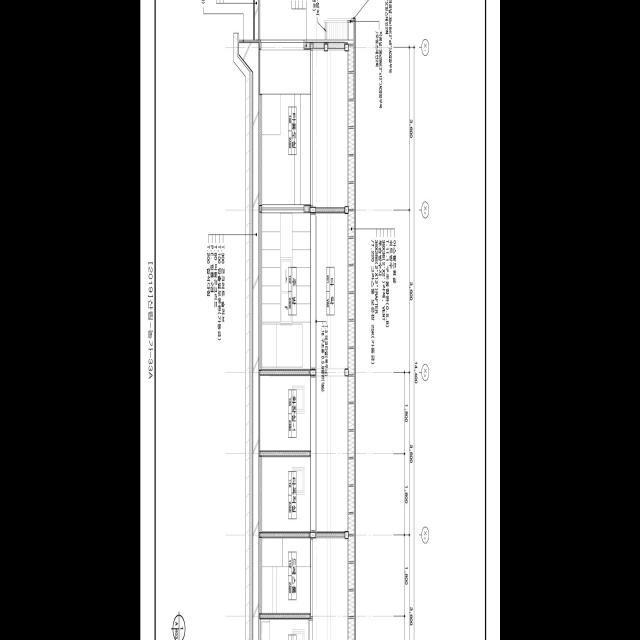background: (140, 0, 500, 640)
space_dressroom: (259, 537, 311, 618)
space_kitchen: (259, 212, 311, 374)
space_multipurpose_space: (259, 49, 311, 205), (259, 456, 311, 537)
space_other: (315, 211, 354, 535), (312, 42, 354, 212), (312, 536, 354, 640)
space_toilet: (259, 375, 311, 456), (259, 618, 309, 640)
